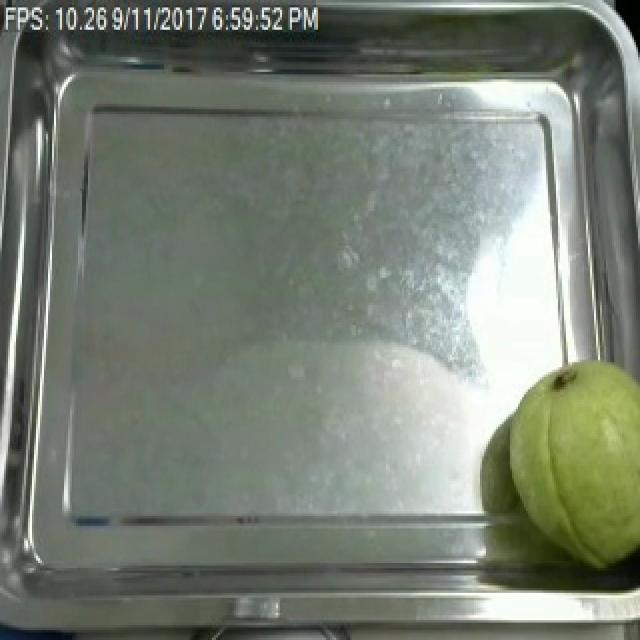Fruit: (482, 340, 640, 575)
